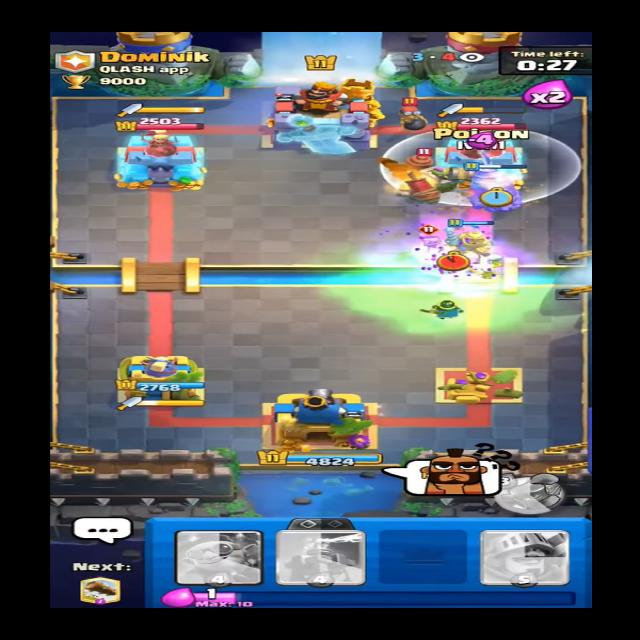bomber: (382, 96, 428, 132)
evo-skeleton: (414, 226, 447, 252)
goblin-machine: (392, 146, 479, 201)
